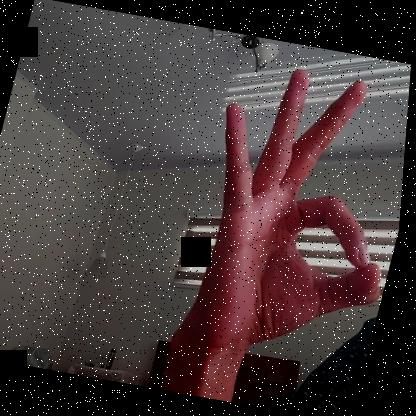F: (170, 58, 412, 374)
